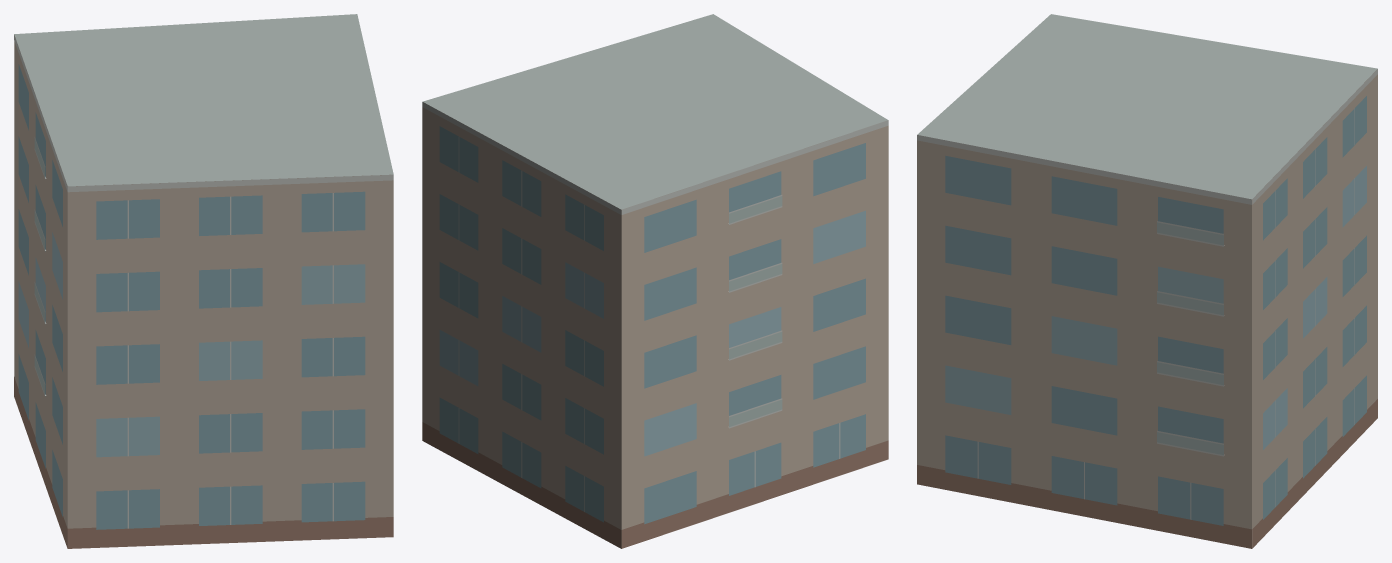
Rendered from survey-upis-32996778.glb.
3 views of the same model, side by side, from view 1: azimuth 30°, elevation 25°; view 2: azimuth 150°, elevation 25°; view 3: azimuth 270°, elevation 25° (orthographic). The views are drawn at different scales.
Visible parts, largest first — view 1: survey-upis-32996778.tmp; view 2: survey-upis-32996778.tmp; view 3: survey-upis-32996778.tmp.
Part boxes in pixels (x1,y1,x2,y2): survey-upis-32996778.tmp: (14, 14, 393, 548); survey-upis-32996778.tmp: (422, 14, 888, 548); survey-upis-32996778.tmp: (917, 14, 1377, 548).
Size of the model in its own units: 17.35 by 15.25 by 18.23.
